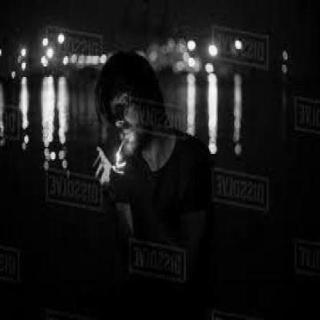Fire: (112, 146, 124, 167)
other: (12, 27, 80, 180), (179, 30, 257, 132)
